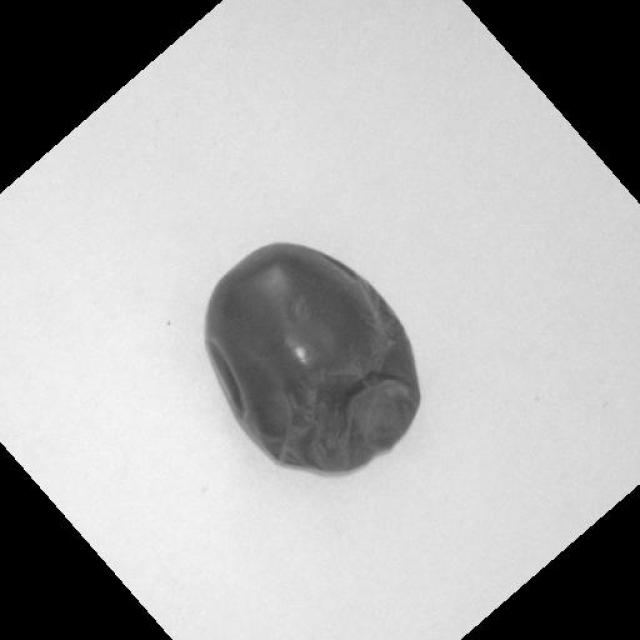Stale_tomato: (206, 249, 412, 463)
